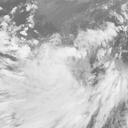cyclone: (34, 55, 104, 111)
